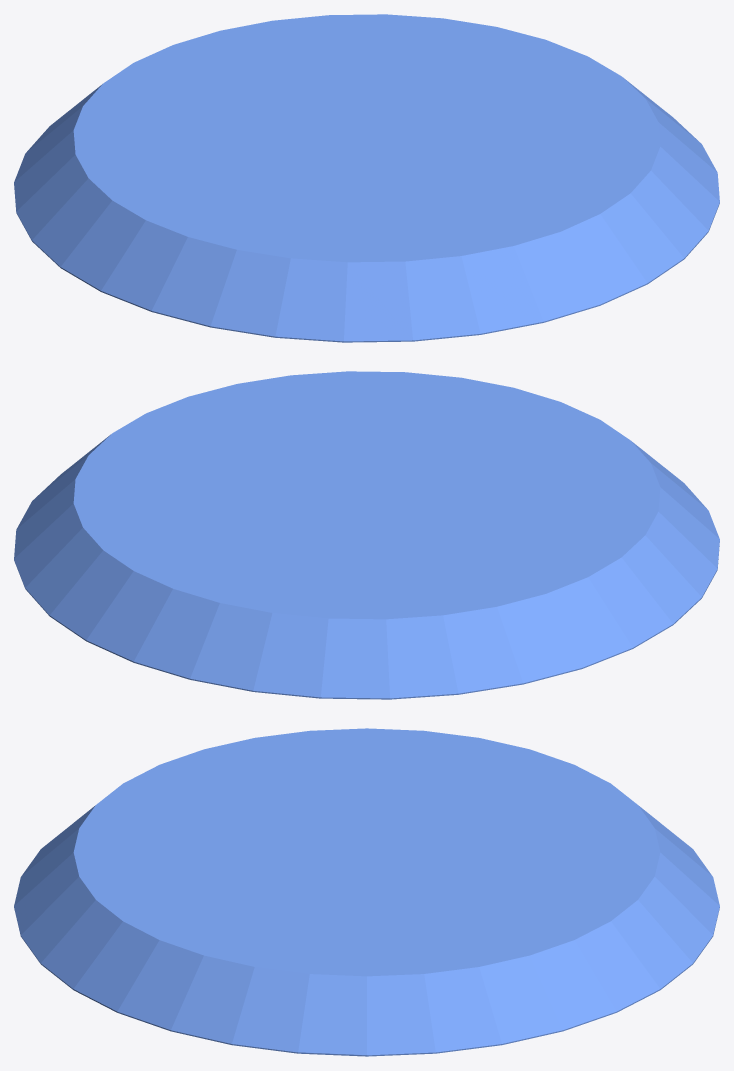
The picture shows the model from 3 angles, top to bottom: view 1: azimuth 30°, elevation 25°; view 2: azimuth 150°, elevation 25°; view 3: azimuth 270°, elevation 25°; orthographic projection.
Visible parts, largest first — view 1: 円柱; view 2: 円柱; view 3: 円柱.
Boxes of the visible parts, x1,y1,x2,y2 form: 円柱: [14, 14, 719, 342]; 円柱: [14, 371, 719, 699]; 円柱: [14, 728, 719, 1056].
Bounding box in the file's own units: 2 × 0.1718 × 2.
1 material, 1 textured.
